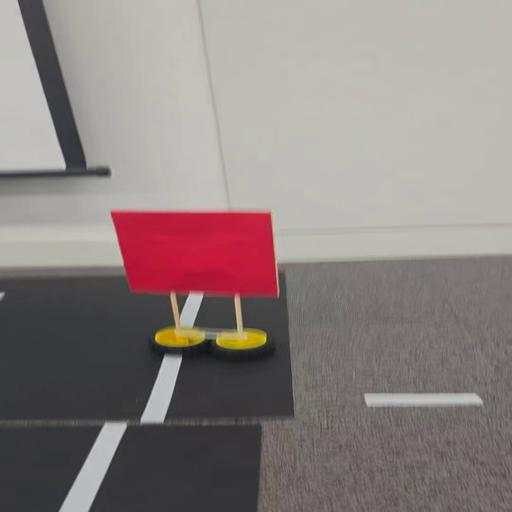Sign_A: (102, 205, 288, 368)
